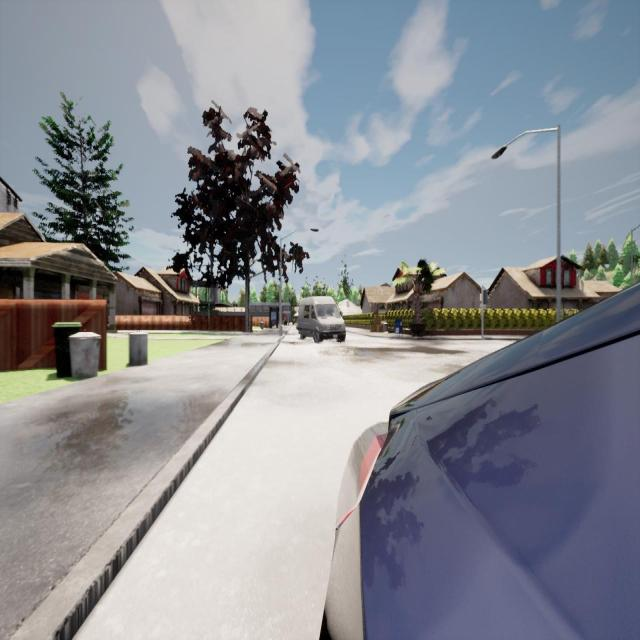Vehicle: (318, 284, 640, 638), (296, 296, 346, 345)
traffic_light: (483, 290, 489, 304)
